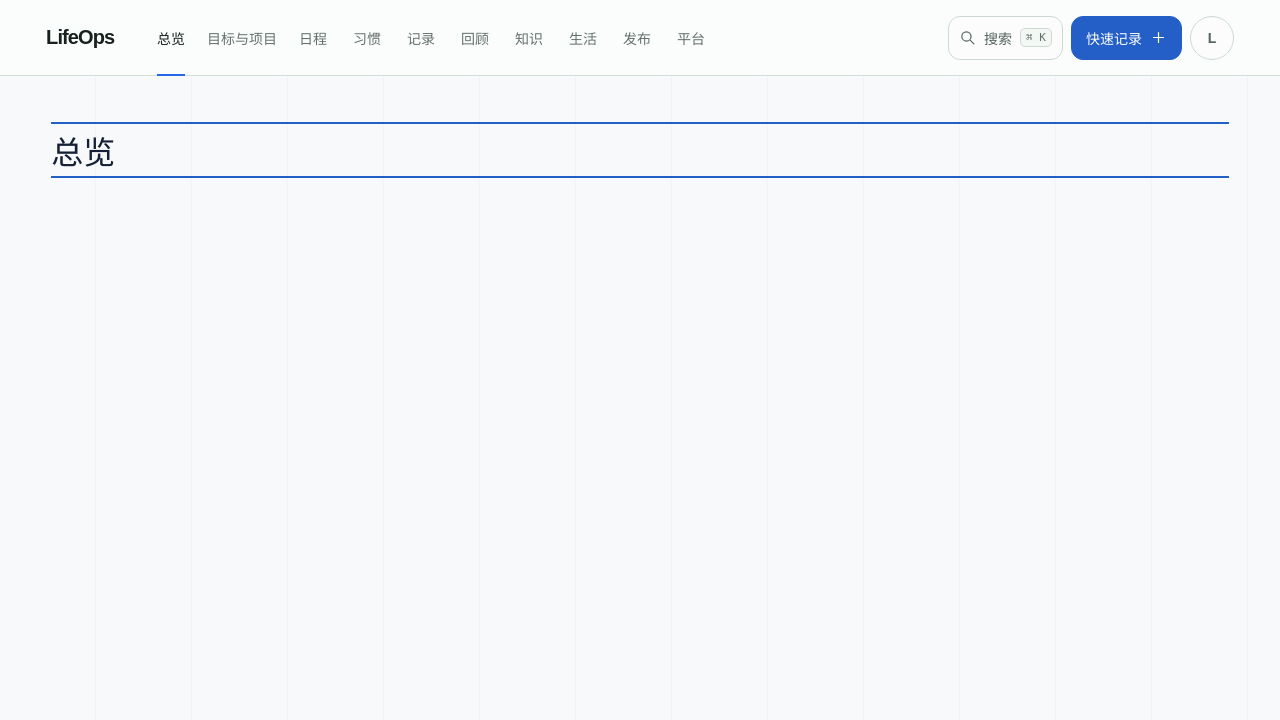
Test case: PrivateAppLayout › renders the exact approved private navigation and utility controls
Expected: the navigation bar named "私人空间导航" reads "总览 目标与项目 日程 习惯 记录 回顾 知识 生活 发布 平台", x1=157 y1=30 x2=705 y2=46
Expected: the button with aria-label "打开全局搜索" is shown, x1=948 y1=16 x2=1063 y2=60
Click the button "快速记录" at (1126, 38), box x1=1071 y1=16 x2=1182 y2=60
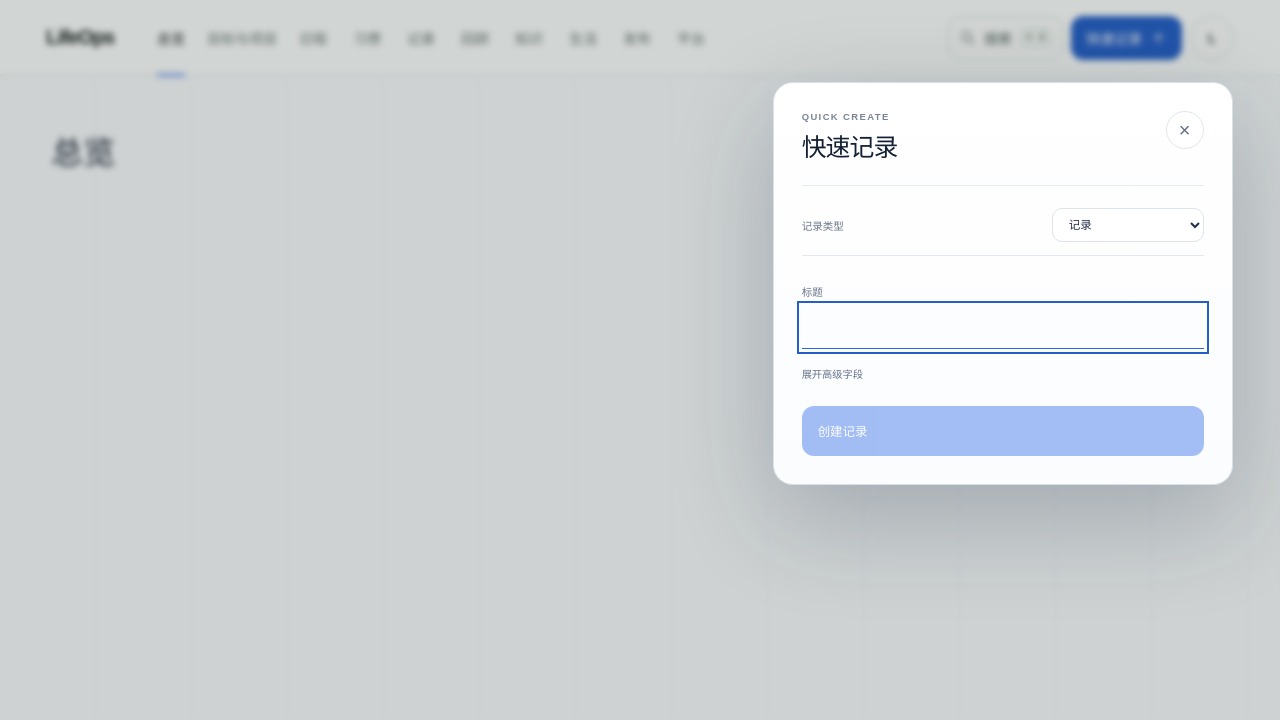
Expected: the button named "打开账户与设置" is shown, x1=1190 y1=16 x2=1234 y2=60
Now the dialog "快速记录" is shown
